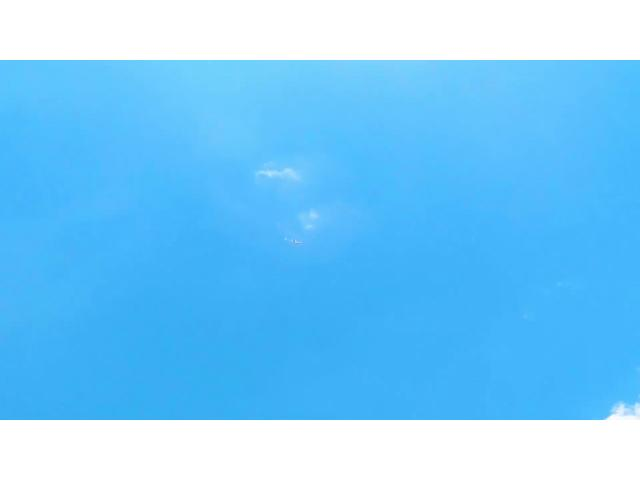Anti-Drone: (279, 233, 311, 249)
